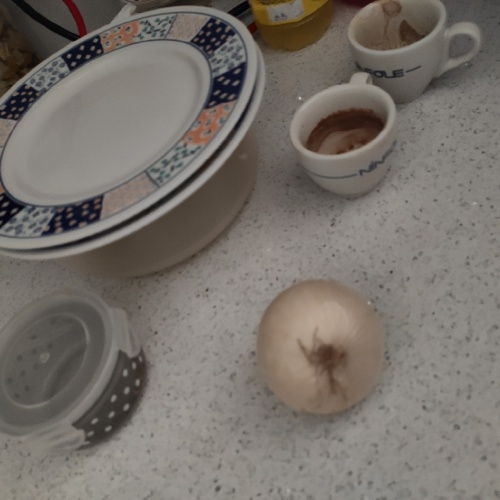cipolla: (253, 274, 397, 421)
